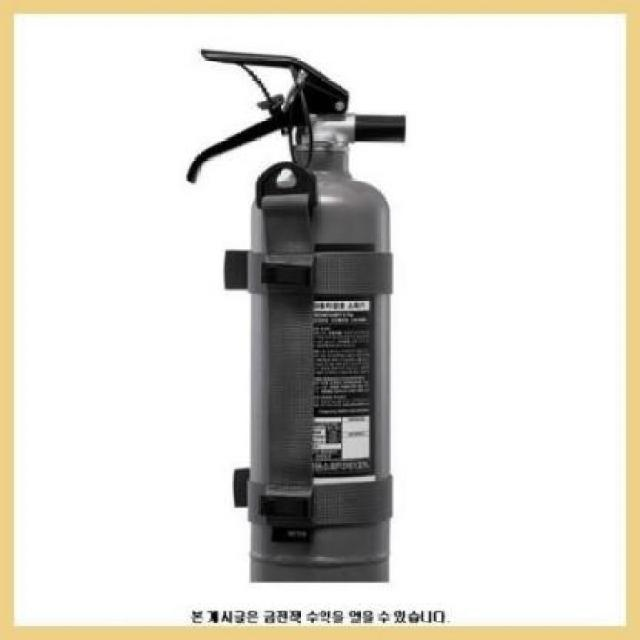fire extinguisher: (185, 47, 406, 584)
